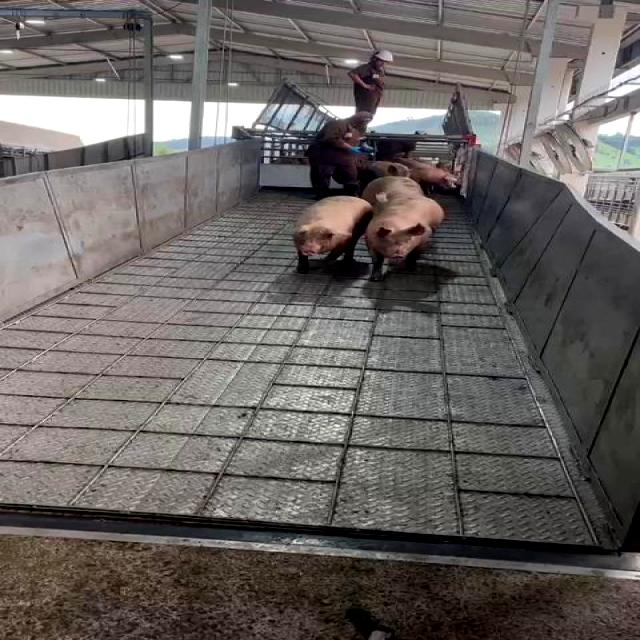pig: (293, 196, 374, 272), (367, 204, 442, 279), (362, 176, 424, 212)
